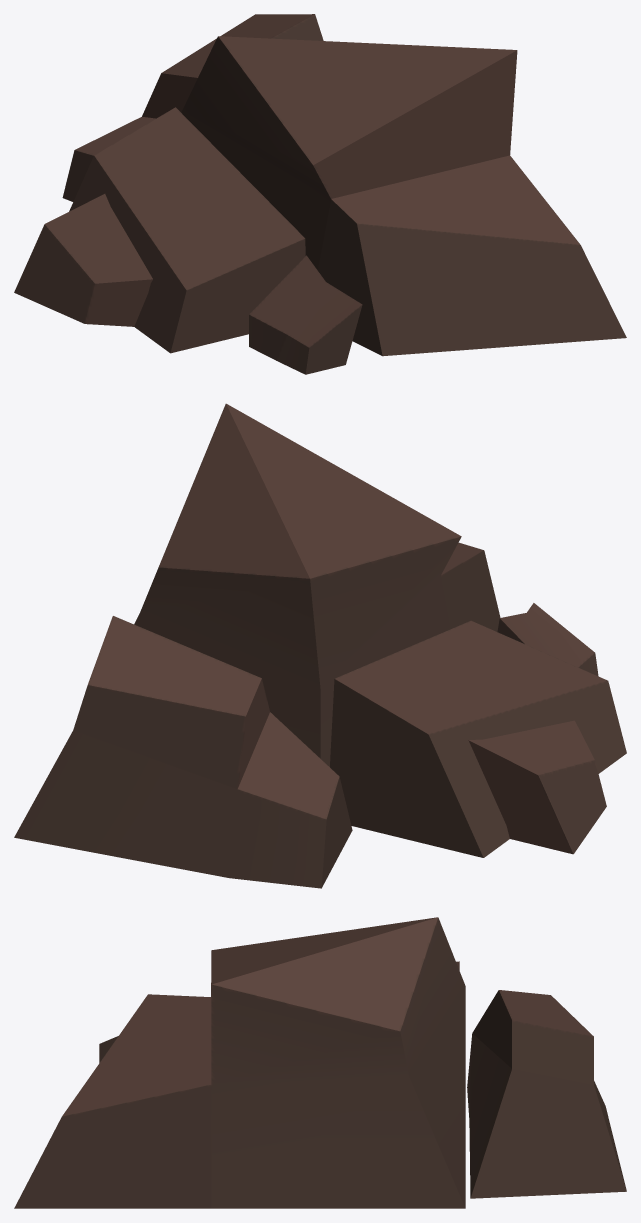
File: debris.fbx
The picture shows the model from 3 angles, top to bottom: view 1: azimuth 30°, elevation 25°; view 2: azimuth 150°, elevation 25°; view 3: azimuth 270°, elevation 25°; orthographic projection. The views are drawn at different scales.
Visible parts, largest first — view 1: pCube84, pCube86, pCube107, pCube87, pCube108; view 2: pCube84, pCube108, pCube86, pCube107, pCube87; view 3: pCube84, pCube108.
Boxes of the visible parts, x1,y1,x2,y2 form: pCube84: (181,36,626,356); pCube86: (69,107,305,353); pCube107: (14,194,152,326); pCube87: (249,255,362,374); pCube108: (62,14,323,201); pCube84: (134,403,500,766); pCube108: (14,616,352,888); pCube86: (330,620,626,857); pCube107: (468,720,606,854); pCube87: (497,603,598,676); pCube84: (14,917,465,1208); pCube108: (467,990,626,1198).
Size of the model in its own units: 0.7332 by 0.3705 by 0.9403.
